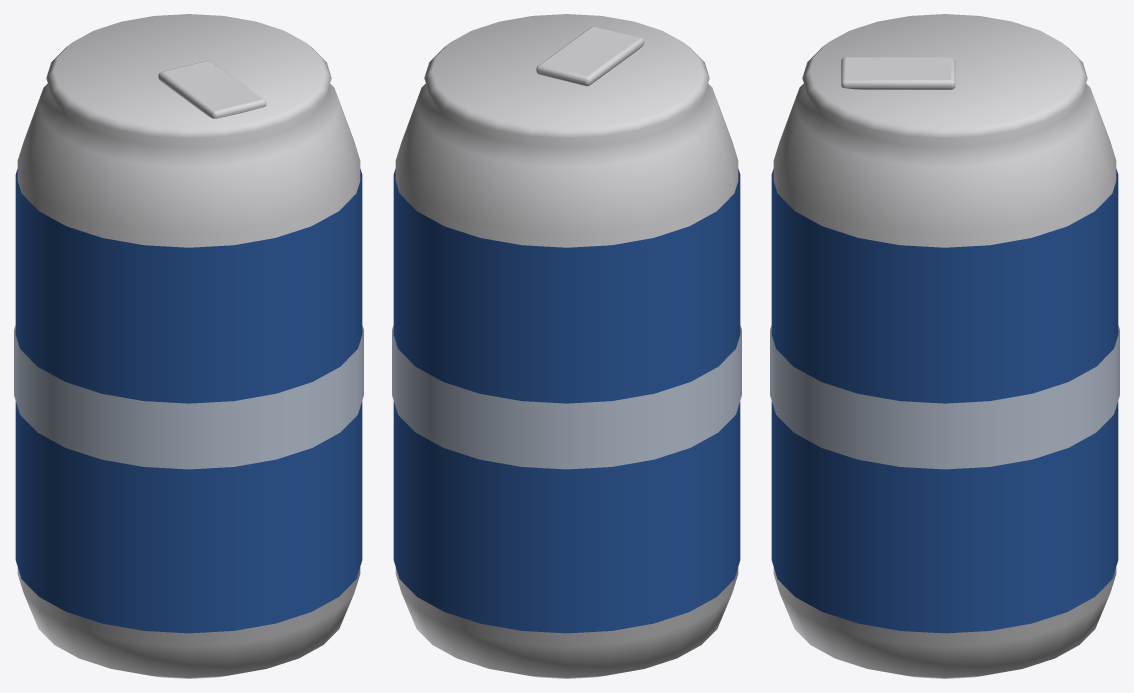
The model's file is item_can_blue.fbx.
3 views of the same model, side by side, from view 1: azimuth 30°, elevation 25°; view 2: azimuth 150°, elevation 25°; view 3: azimuth 270°, elevation 25° (orthographic).
Visible parts, largest first — view 1: item_can_blue; view 2: item_can_blue; view 3: item_can_blue.
Boxes of the visible parts, bbox=[...] form: item_can_blue: bbox=[14, 14, 363, 678]; item_can_blue: bbox=[392, 14, 741, 678]; item_can_blue: bbox=[770, 14, 1119, 678].
Size of the model in its own units: 0.0674 by 0.1195 by 0.0674.
